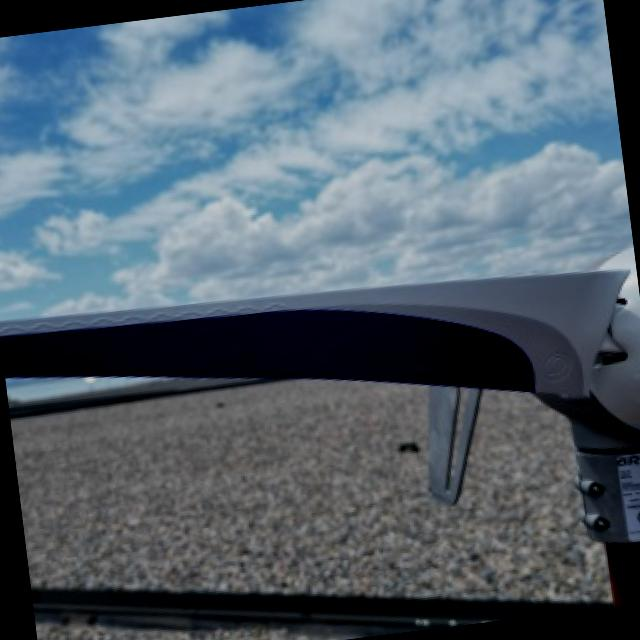healthy: (0, 268, 640, 604)
